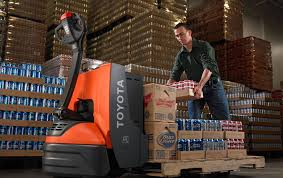Pallet Jack: (39, 11, 267, 178)
